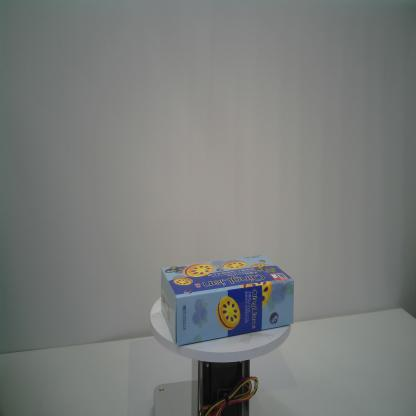Dessert: (160, 253, 295, 347)
